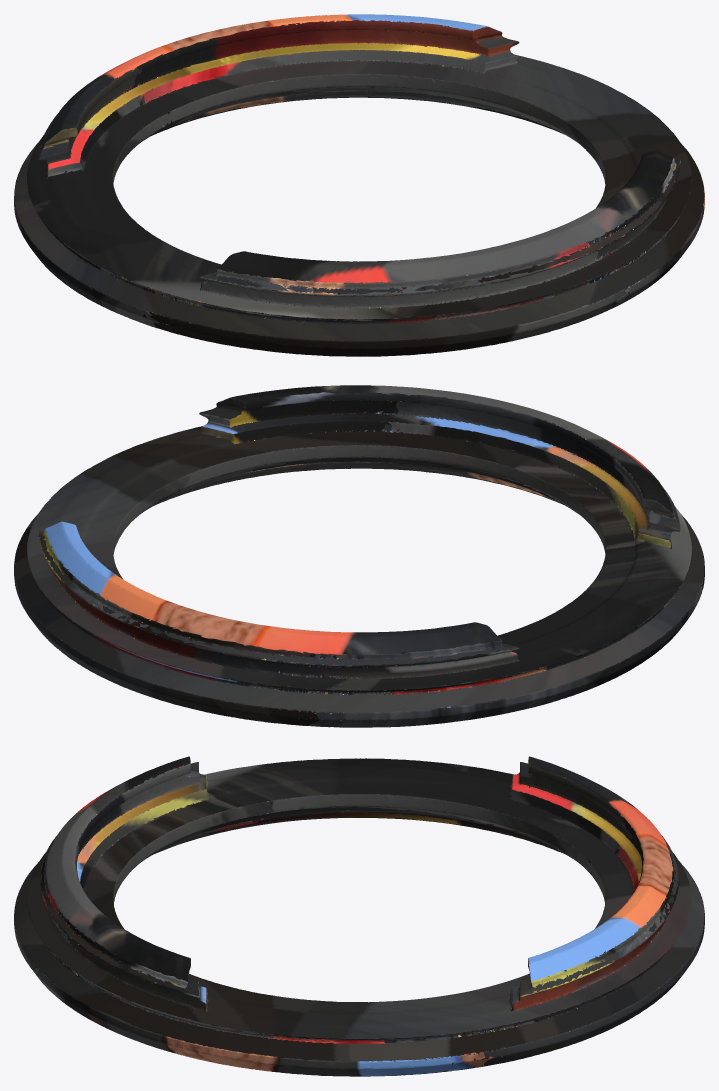
The model's file is Cube_Generation_bot.fbx.
The picture shows the model from 3 angles, top to bottom: view 1: azimuth 30°, elevation 25°; view 2: azimuth 150°, elevation 25°; view 3: azimuth 270°, elevation 25°; orthographic projection.
Parts seen in each view (by area): view 1: Cube_Generation_tail; view 2: Cube_Generation_tail; view 3: Cube_Generation_tail.
Part boxes in pixels (box(x1,y1,x2,y2)): Cube_Generation_tail: box(14, 14, 704, 356); Cube_Generation_tail: box(14, 385, 704, 727); Cube_Generation_tail: box(14, 756, 704, 1076).
Bounding box in the file's own units: 101 × 12.77 × 101.
